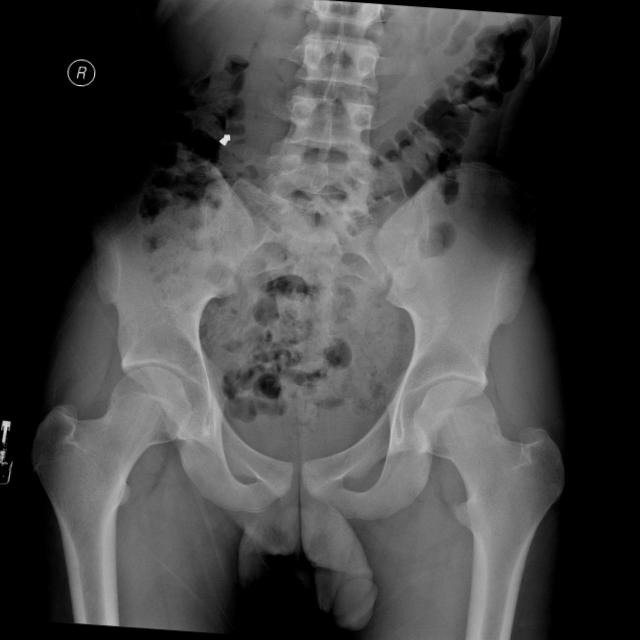normal-left: (413, 380, 565, 640)
normal-right: (31, 365, 192, 626)
